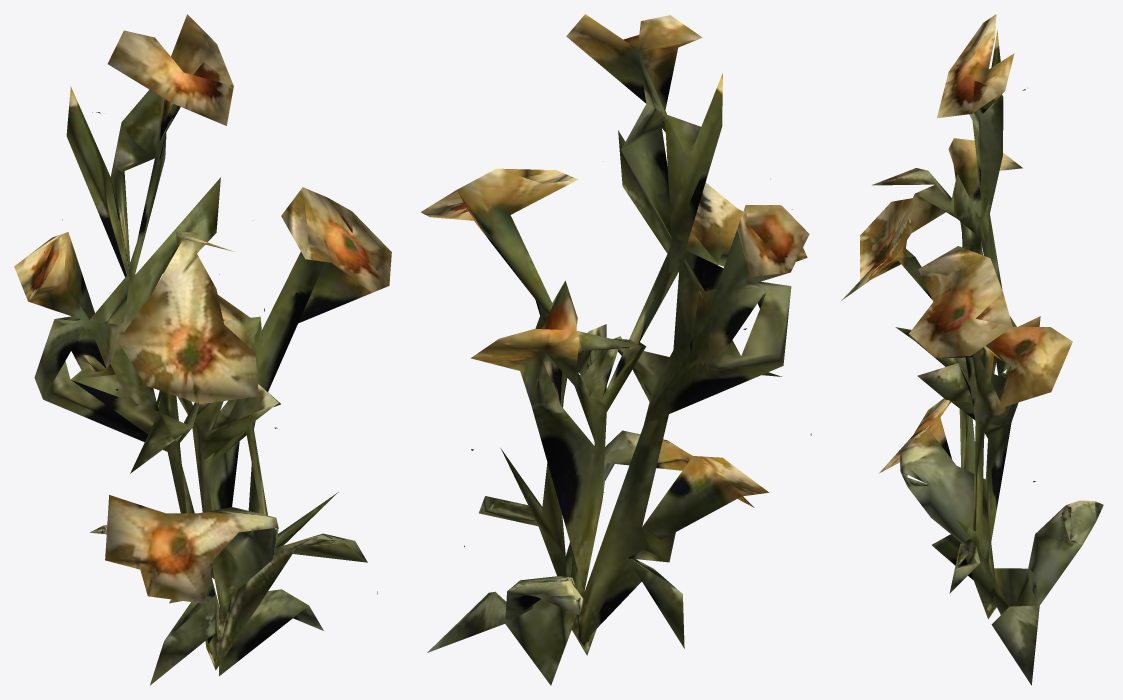
The model's file is mucha_flower_daisy.glb.
The picture shows the model from 3 angles, left to right: view 1: azimuth 30°, elevation 25°; view 2: azimuth 150°, elevation 25°; view 3: azimuth 270°, elevation 25°; orthographic projection. The views are drawn at different scales.
Visible parts, largest first — view 1: tripo_node_503792cf-8578-4ab3-9137-95930a092994.001; view 2: tripo_node_503792cf-8578-4ab3-9137-95930a092994.001; view 3: tripo_node_503792cf-8578-4ab3-9137-95930a092994.001.
Part boxes in pixels (x1,y1,x2,y2): tripo_node_503792cf-8578-4ab3-9137-95930a092994.001: (14, 14, 391, 685); tripo_node_503792cf-8578-4ab3-9137-95930a092994.001: (421, 14, 811, 685); tripo_node_503792cf-8578-4ab3-9137-95930a092994.001: (841, 14, 1103, 685).
Bounding box in the file's own units: 0.512 × 0.9181 × 0.3793.
Materials: 1 (1 with a texture image).
